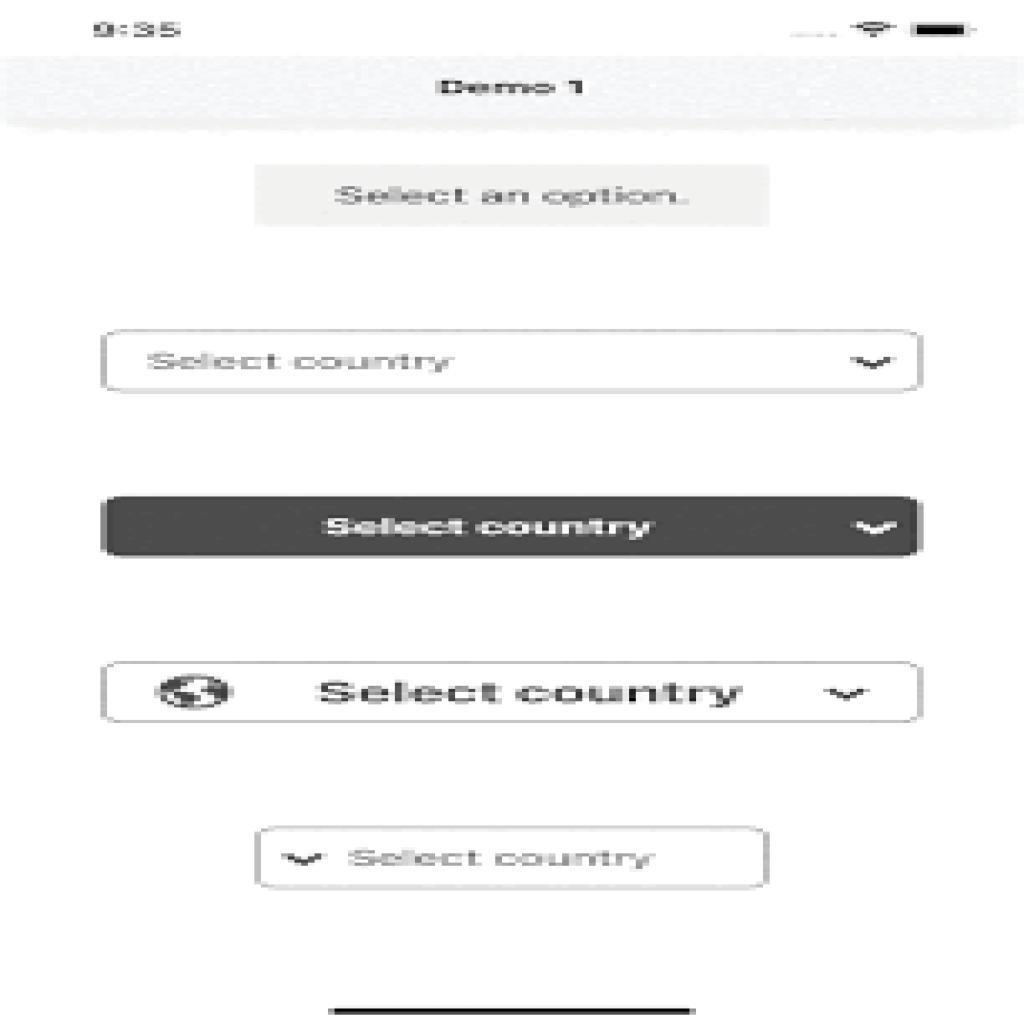button: (259, 167, 768, 222)
dropdown: (102, 658, 922, 726), (100, 495, 928, 561), (103, 328, 923, 394), (256, 827, 772, 888)
